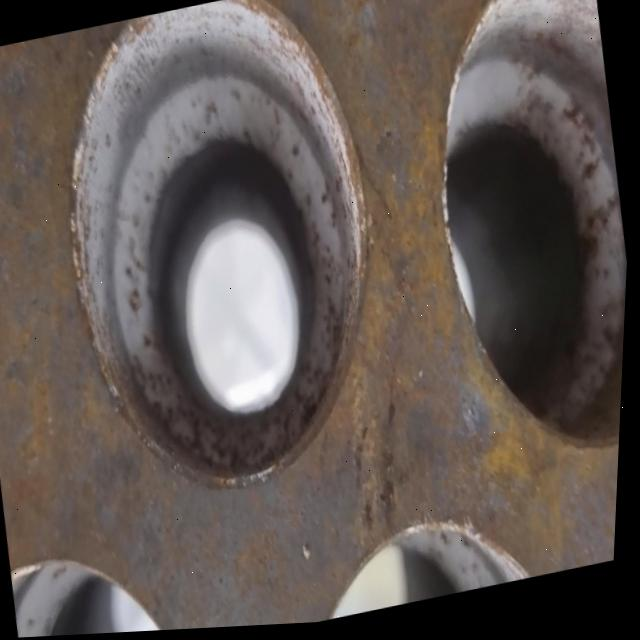Hole: (32, 0, 418, 524), (397, 0, 640, 489)
